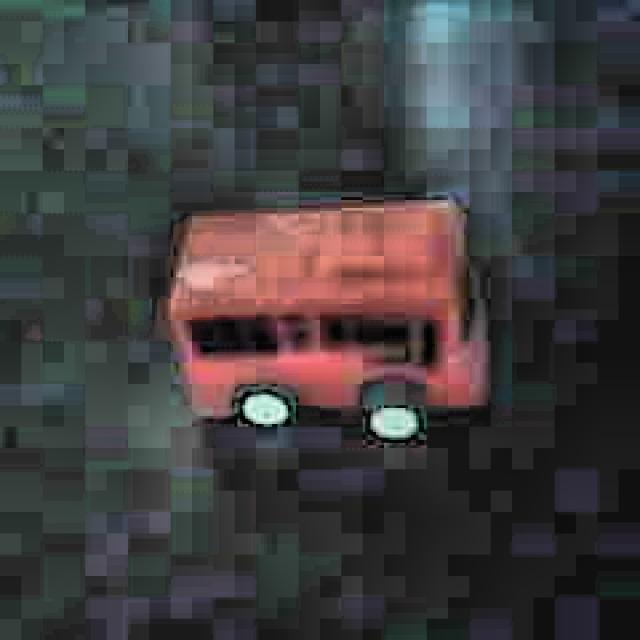bus: (161, 190, 497, 454)
